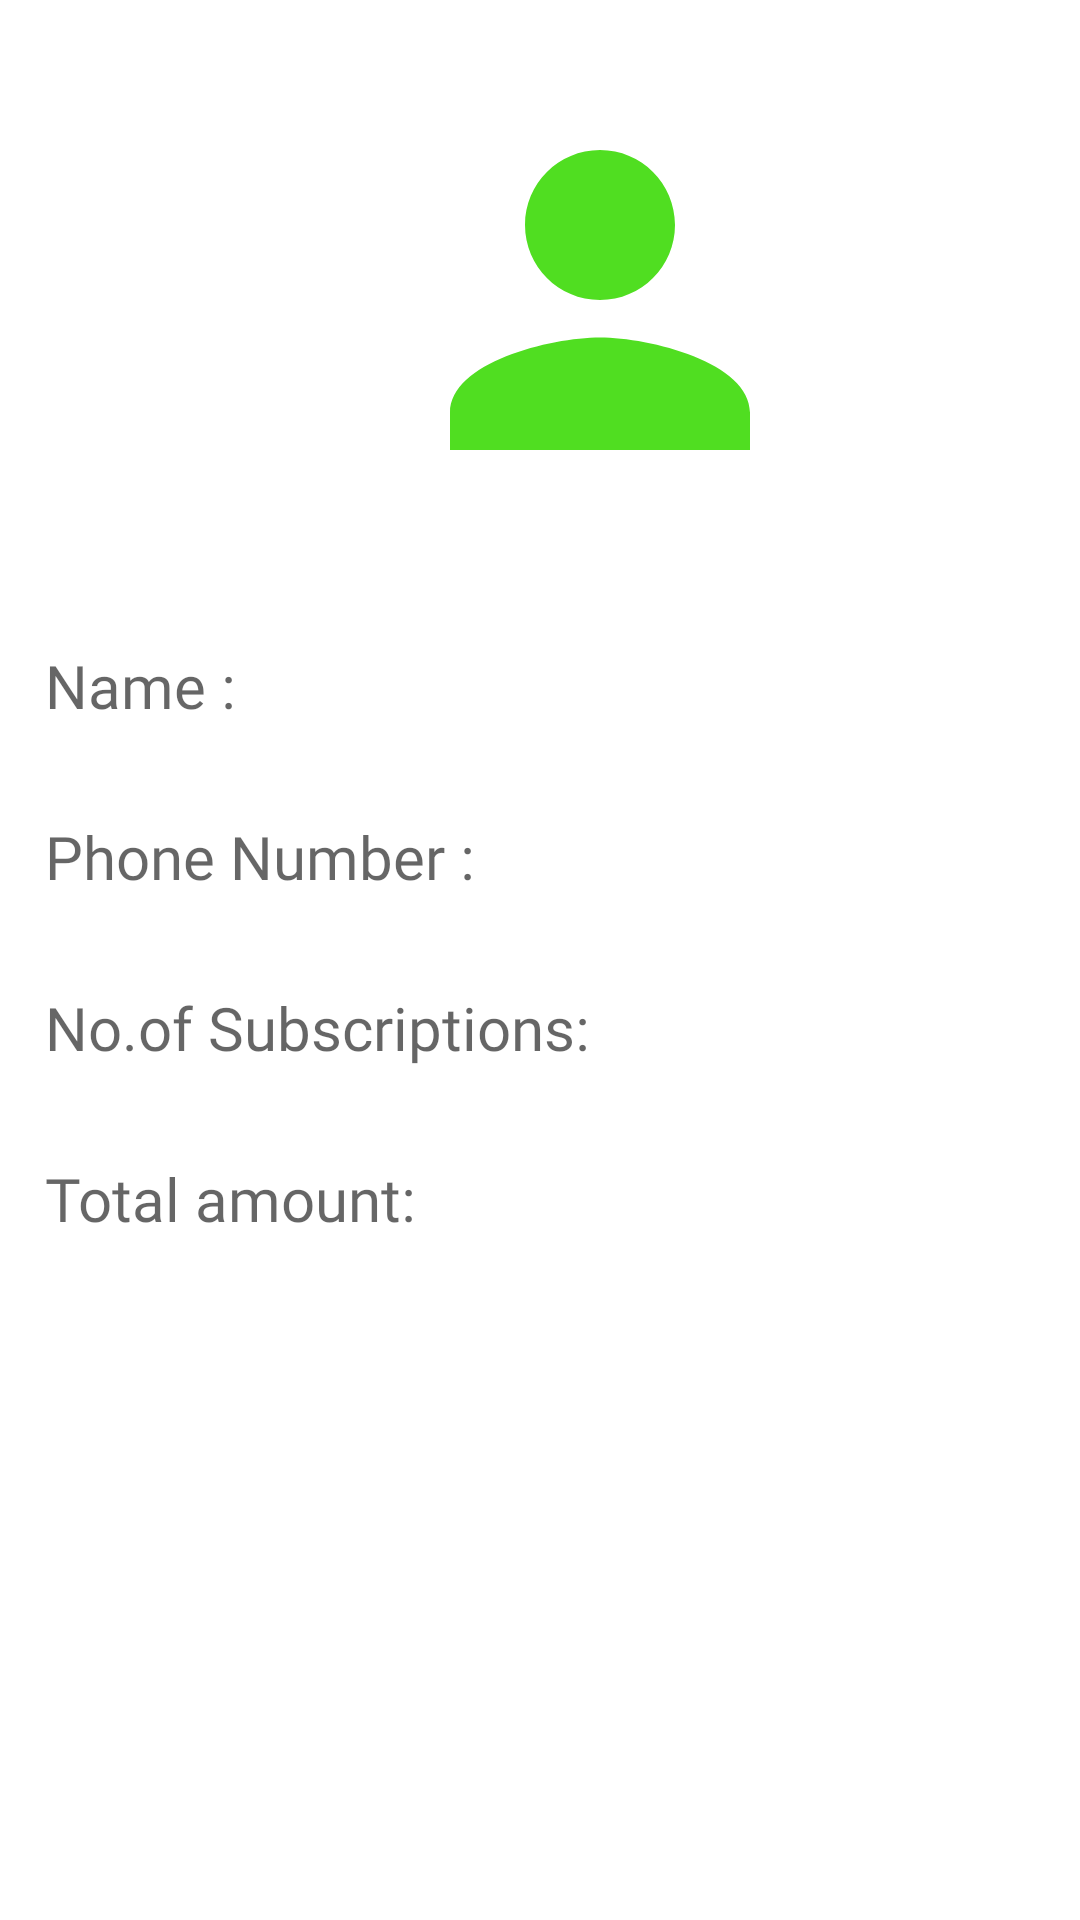

Screen size 1080px x 1920px. Icon name, then its box in pixels as bbox=(x1, y1, x2, y2):
person: bbox=(450, 150, 750, 450)
